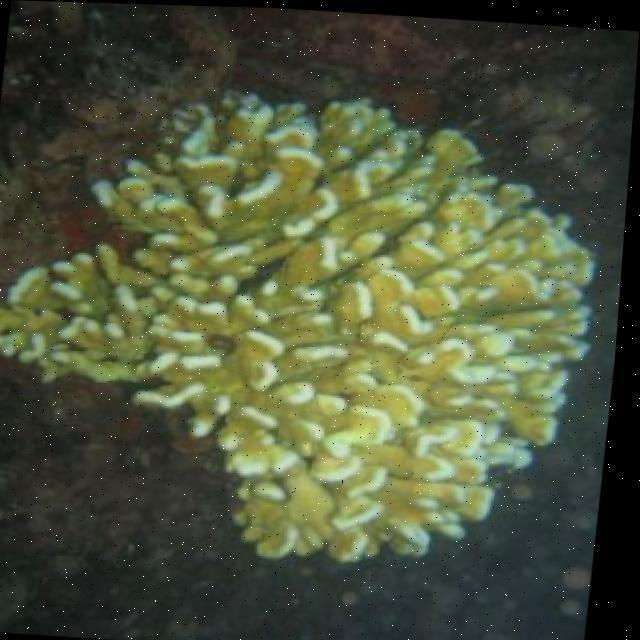Bleached Coral: (0, 64, 633, 590)
